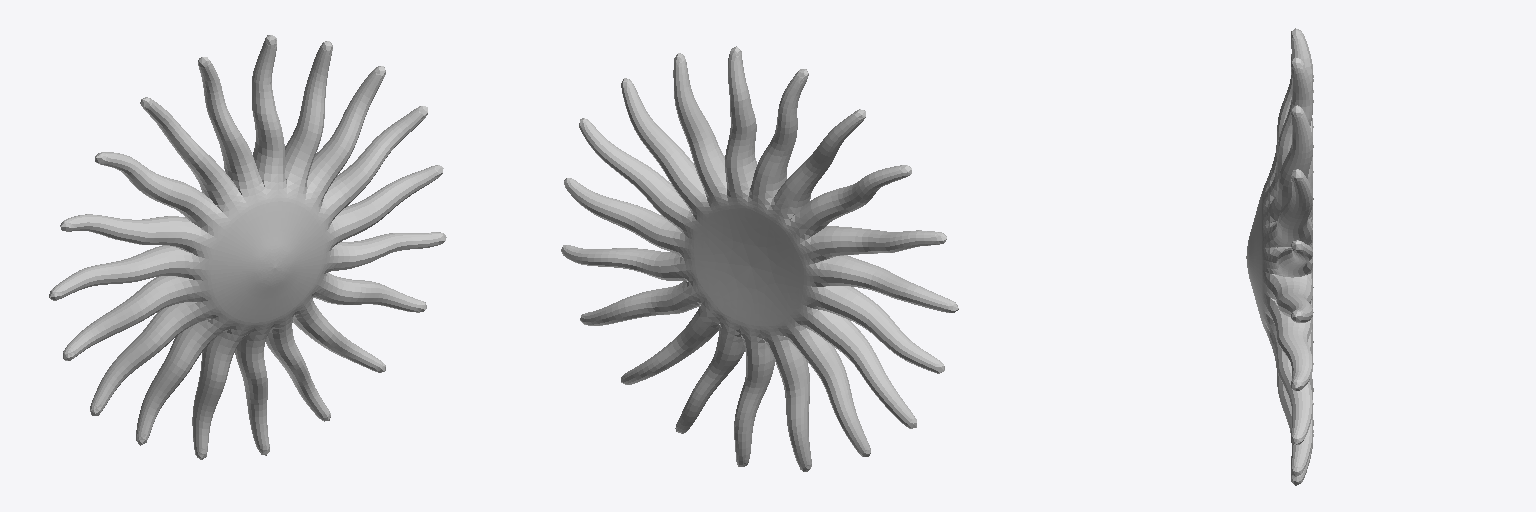
The model's file is 18762_Sunflower_Star_starfish_v1.obj.
3 renders of one model, left to right at view 1: azimuth 30°, elevation 25°; view 2: azimuth 150°, elevation 25°; view 3: azimuth 270°, elevation 25°, orthographic.
Parts seen in each view (by area): view 1: 18762_Sunflower_Star_starfish_v1; view 2: 18762_Sunflower_Star_starfish_v1; view 3: 18762_Sunflower_Star_starfish_v1.
Part boxes in pixels (left/top/right/bottom): 18762_Sunflower_Star_starfish_v1: left=49, top=35, right=446, bottom=459; 18762_Sunflower_Star_starfish_v1: left=561, top=46, right=958, bottom=471; 18762_Sunflower_Star_starfish_v1: left=1246, top=28, right=1313, bottom=485.
Size of the model in its own units: 9.82 by 9.92 by 1.44.